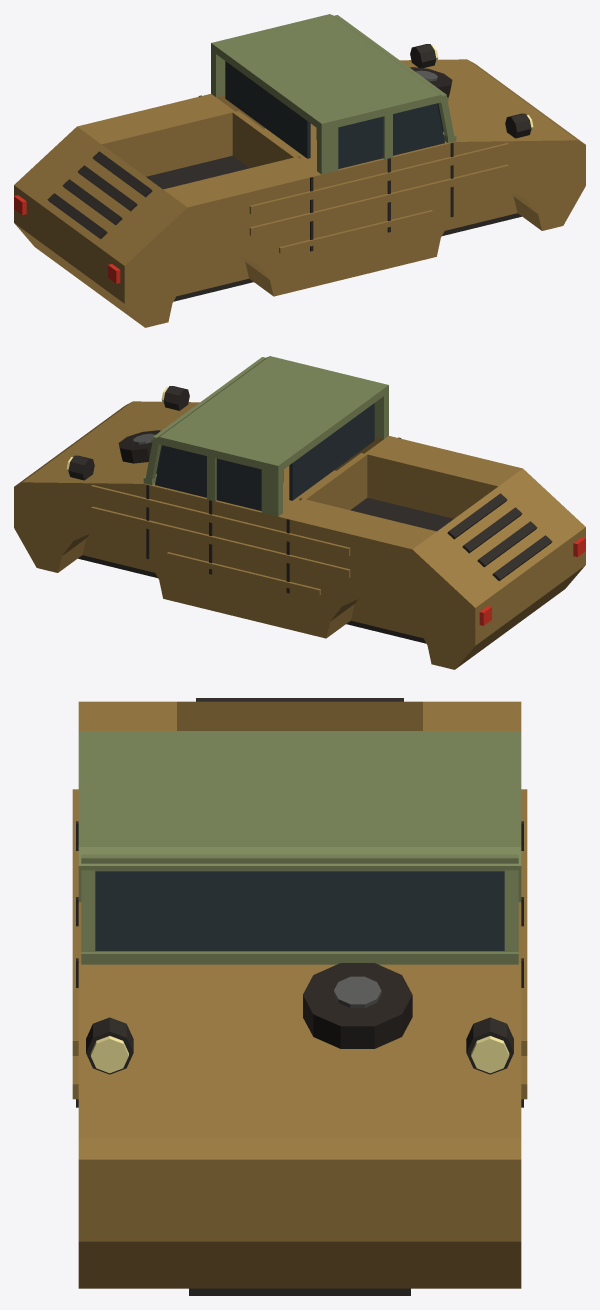
The model's file is base_jeep.glb.
3 views of the same model, one above another, from view 1: azimuth 30°, elevation 25°; view 2: azimuth 150°, elevation 25°; view 3: azimuth 270°, elevation 25° (orthographic). The views are drawn at different scales.
Parts seen in each view (by area): view 1: base_jeep; view 2: base_jeep; view 3: base_jeep.
Boxes of the visible parts, left/top/right/bottom form: base_jeep: left=14, top=14, right=585, bottom=327; base_jeep: left=14, top=356, right=585, bottom=669; base_jeep: left=72, top=698, right=527, bottom=1295.
Size of the model in its own units: 4.51 by 1.56 by 1.91.
